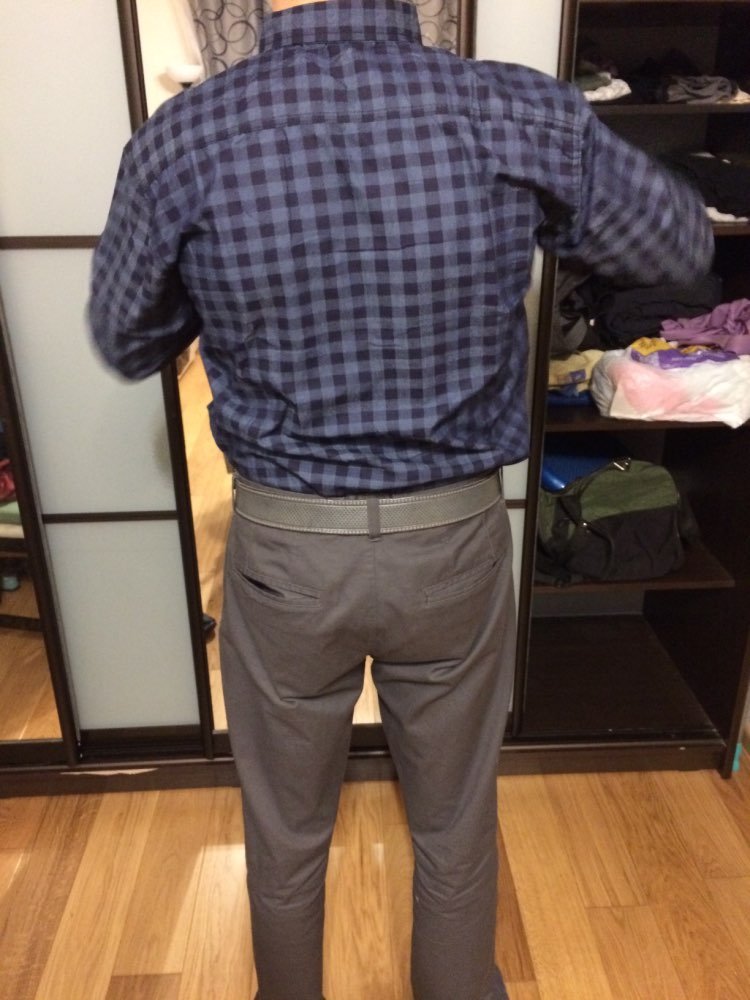shirts: (88, 22, 704, 499)
